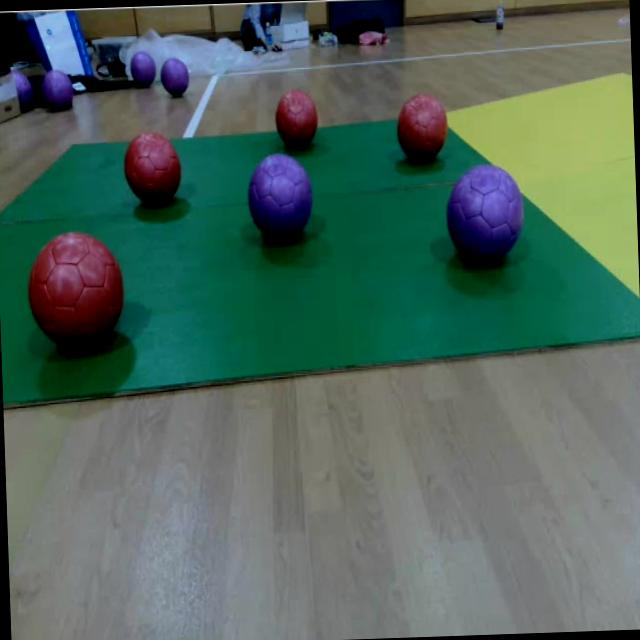purple_ball: (445, 165, 523, 262), (246, 154, 314, 240), (44, 68, 75, 110), (160, 57, 188, 96), (130, 50, 156, 86)
red_ball: (24, 228, 126, 346), (122, 130, 182, 210), (394, 90, 448, 162), (276, 87, 319, 146)
